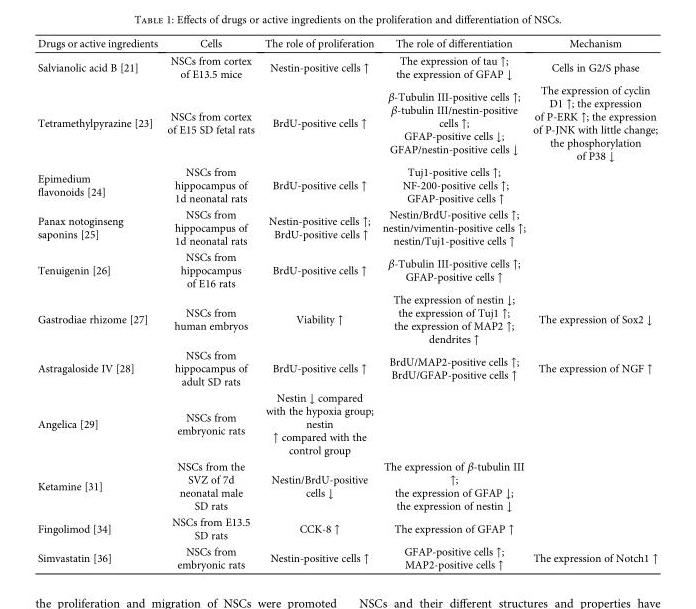table: (36, 36, 657, 570)
table column: (377, 36, 528, 570), (528, 36, 657, 570), (36, 36, 161, 570), (259, 36, 377, 570), (161, 36, 259, 570)
table column header: (36, 36, 657, 51)
table row: (36, 81, 657, 163), (36, 389, 657, 457), (36, 290, 657, 346), (36, 457, 657, 513), (36, 205, 657, 248), (36, 346, 657, 389), (36, 163, 657, 205), (36, 248, 657, 290), (36, 51, 657, 81), (36, 513, 657, 542), (36, 542, 657, 570), (36, 36, 657, 51)
